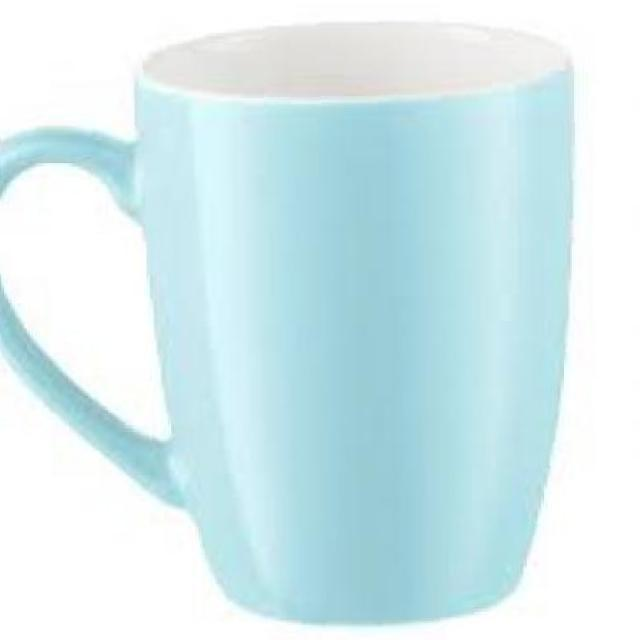cup: (0, 15, 595, 635)
